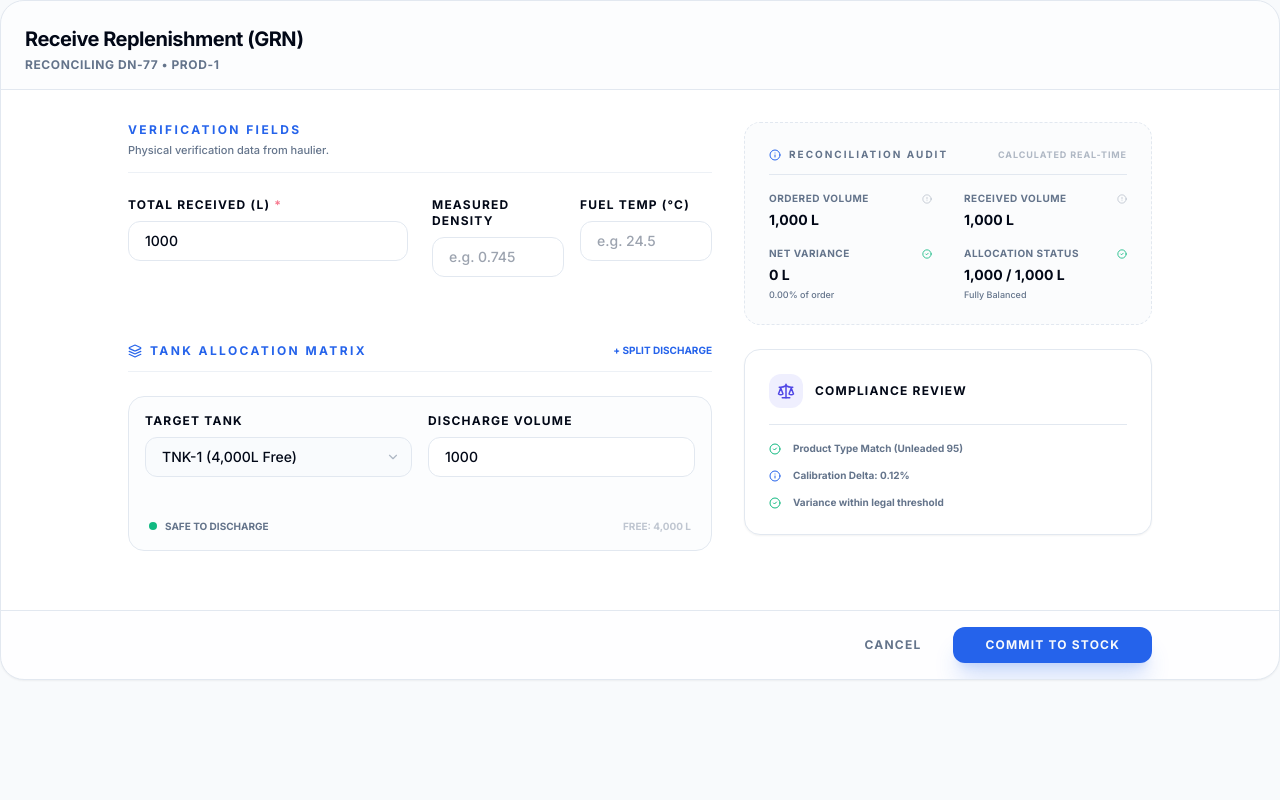
Scenario: ReceiveDeliveryForm › shows variance attribution and blocks mismatched tank allocations
Expected: the text "Reconciling DN-77 • prod-1" is shown, top-left (25, 57), bottom-right (219, 72)
Replace the text in the number field labelled "Total Received (L) *" with "1100" at [268, 241], box top-left (128, 221), bottom-right (408, 261)
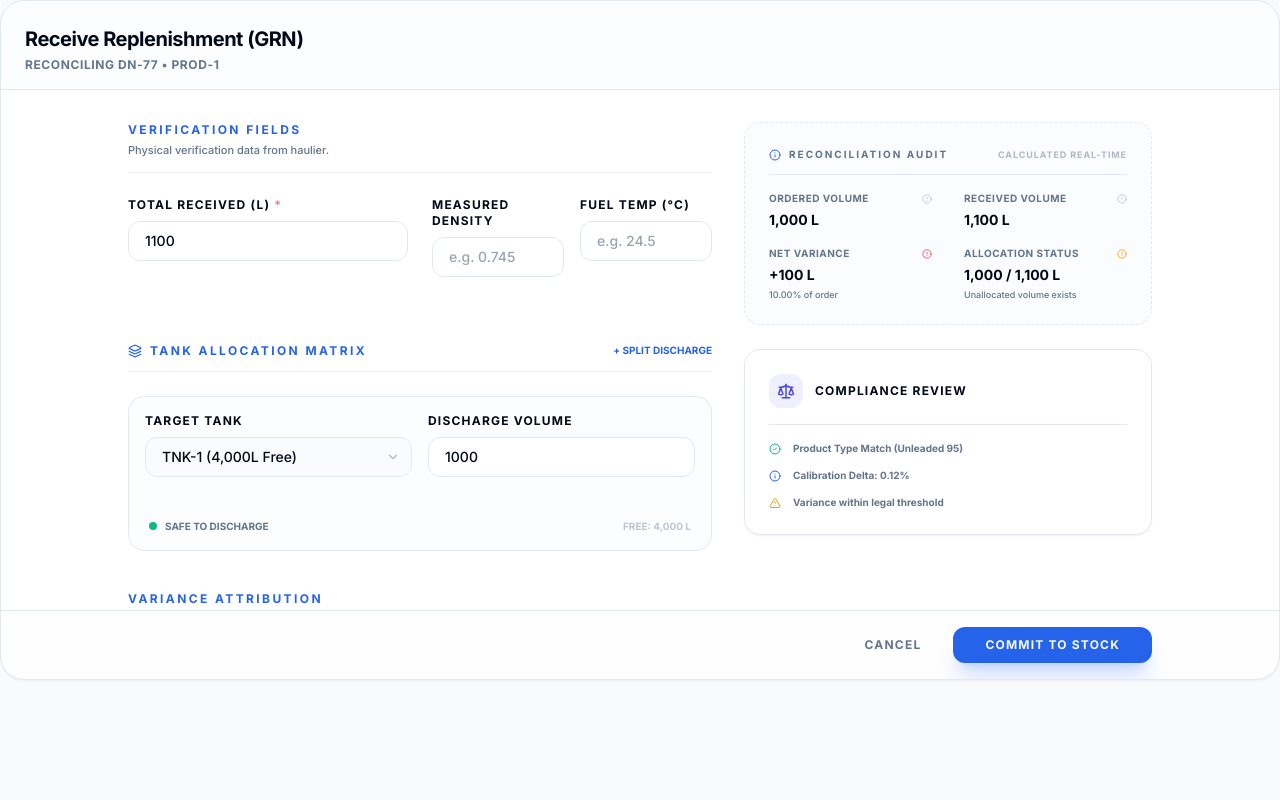
Now the heading "Variance Attribution" is shown, box top-left (128, 591), bottom-right (323, 606)
Now the text "Unallocated volume exists" is shown, box top-left (964, 289), bottom-right (1077, 300)
Click the button "Commit to Stock" at [1053, 645], box top-left (953, 627), bottom-right (1152, 663)
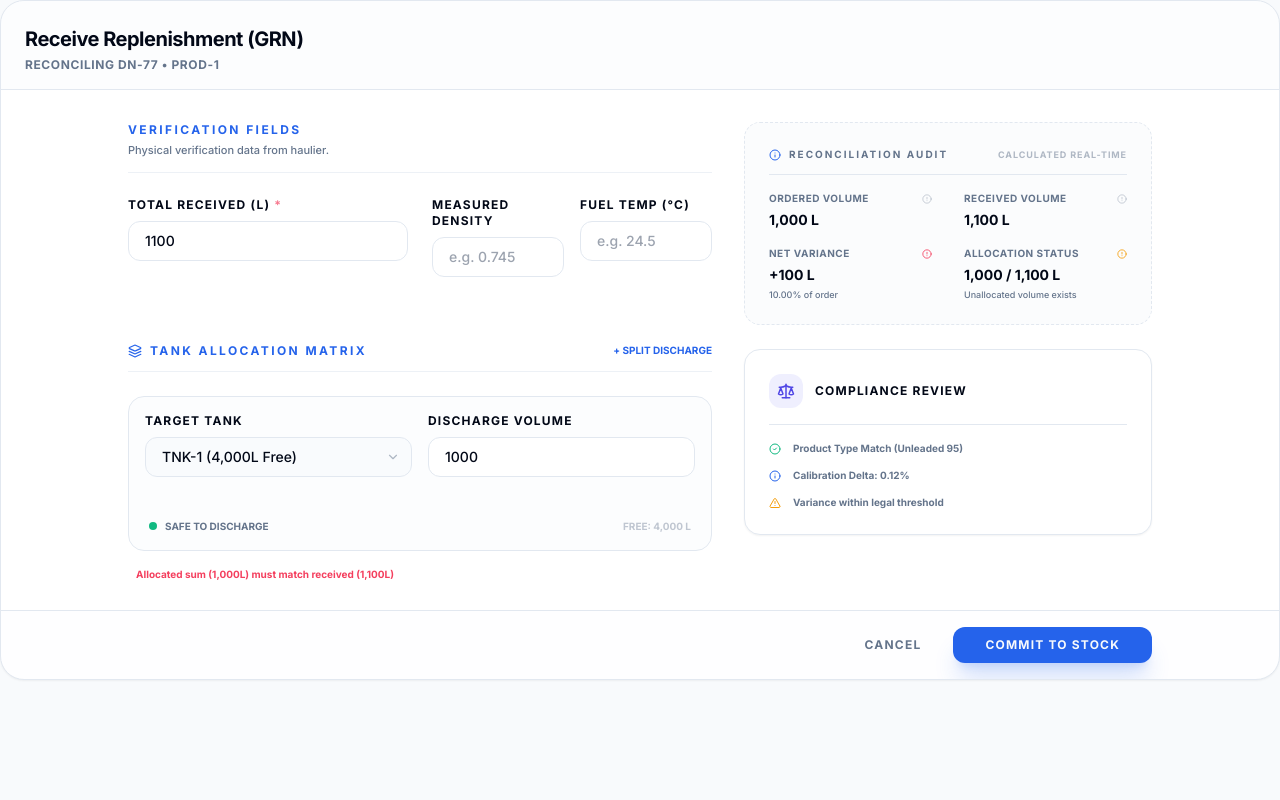
Now the text "Allocated sum (1,000L) must match received (1,100L)" is shown, box top-left (136, 568), bottom-right (394, 580)
